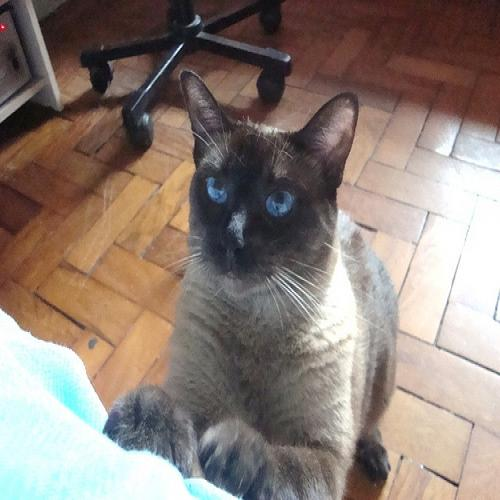siamese: (168, 40, 366, 308)
